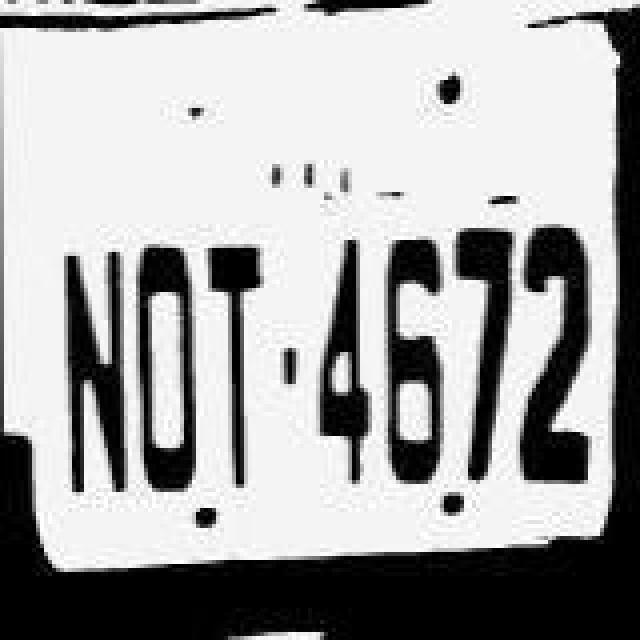2: (516, 214, 600, 490)
4: (304, 234, 380, 486)
6: (370, 234, 450, 486)
7: (446, 220, 518, 484)
N: (46, 244, 134, 500)
O: (124, 236, 200, 500)
T: (206, 228, 278, 492)
